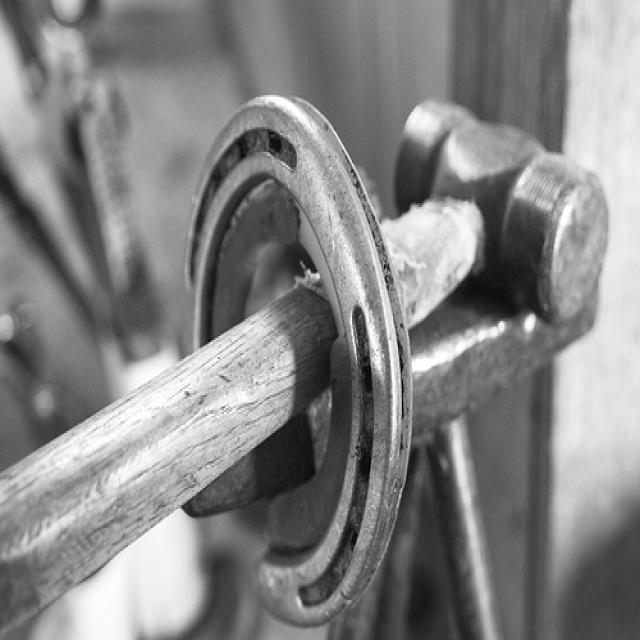hammer: (0, 87, 611, 581)
